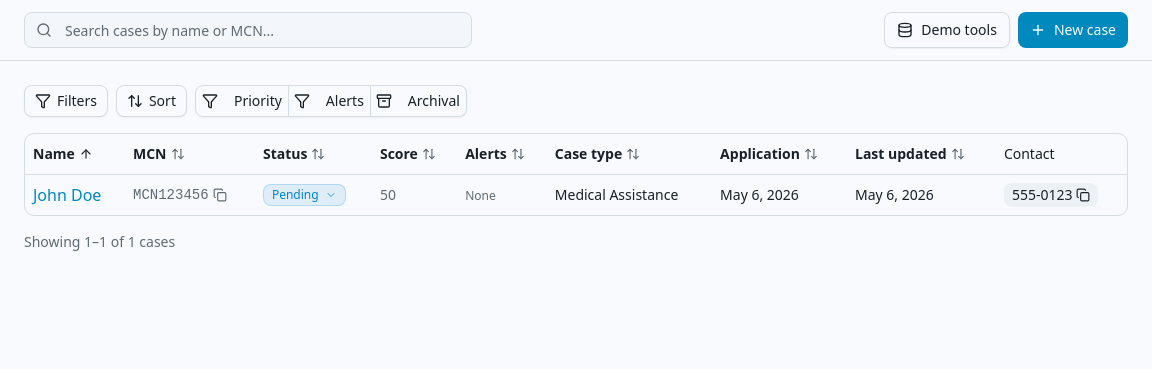
Test: CaseList status interactions › CaseList table updates status when a new option is selected
The image size is (1152, 369).
Expected: the text "Pending" is shown, [272, 186, 319, 202]
Click the button with aria-label "change case status": click(304, 194) [263, 184, 346, 206]
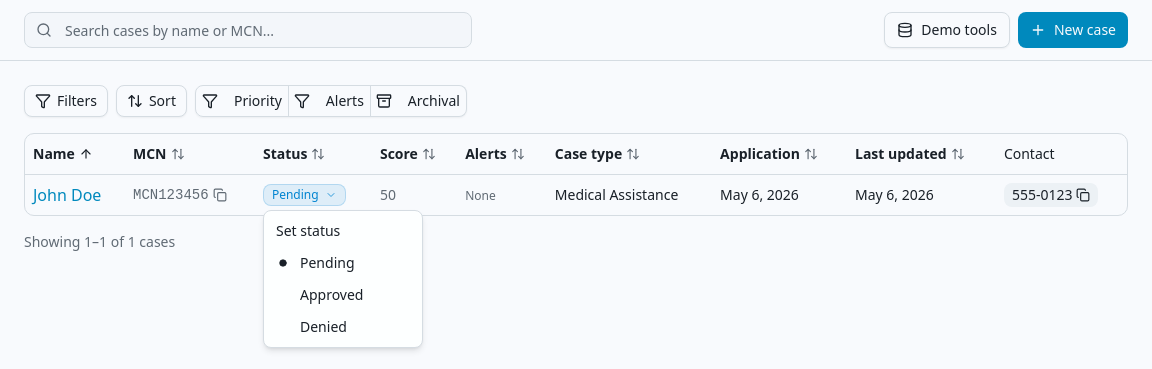
Click the menu item "Approved": click(332, 294) [300, 285, 364, 304]
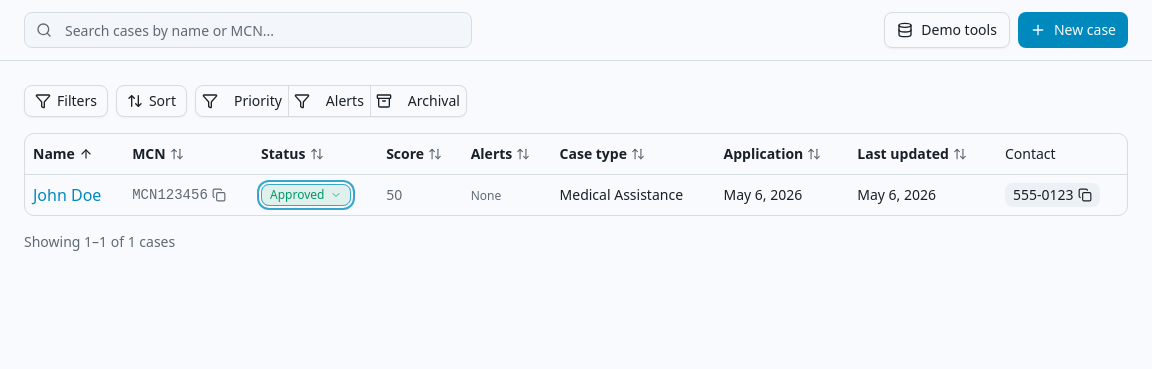
Result: the text "Approved" is shown at [270, 186, 324, 202]
